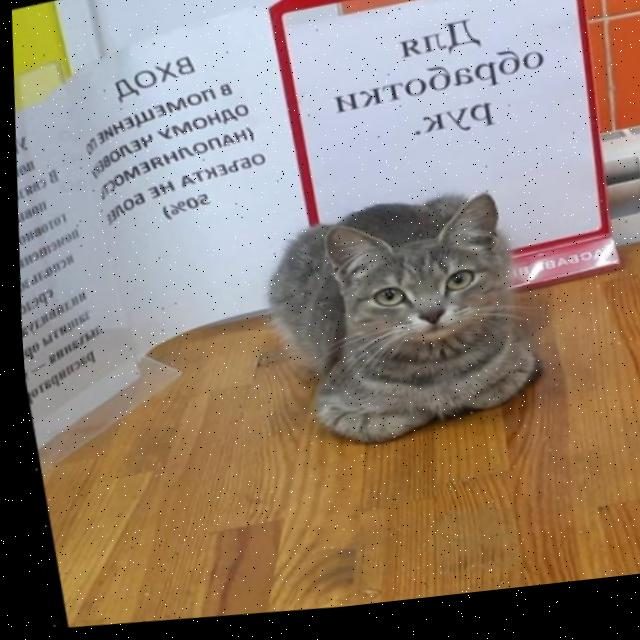Cats: (229, 165, 558, 480)
